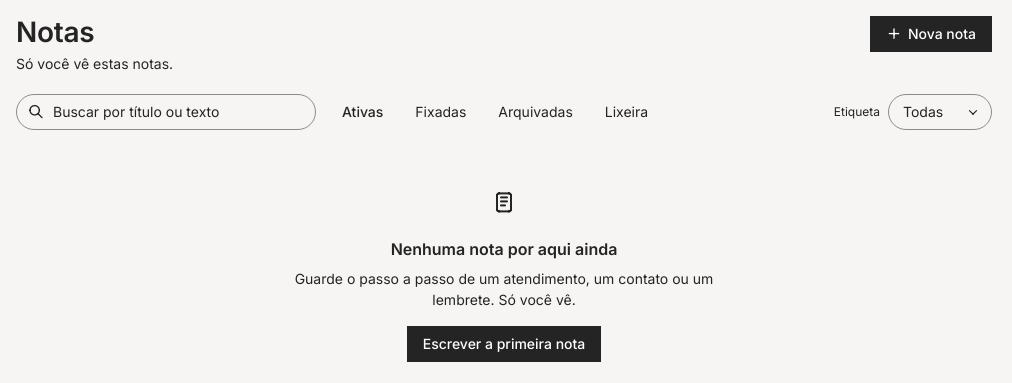
Test case: PaginaNotas › o vazio de um filtro oferece limpar o filtro
Select "Urgente" in the dropdown named "filtrar por etiqueta" at (940, 112), box [888,94,992,130]
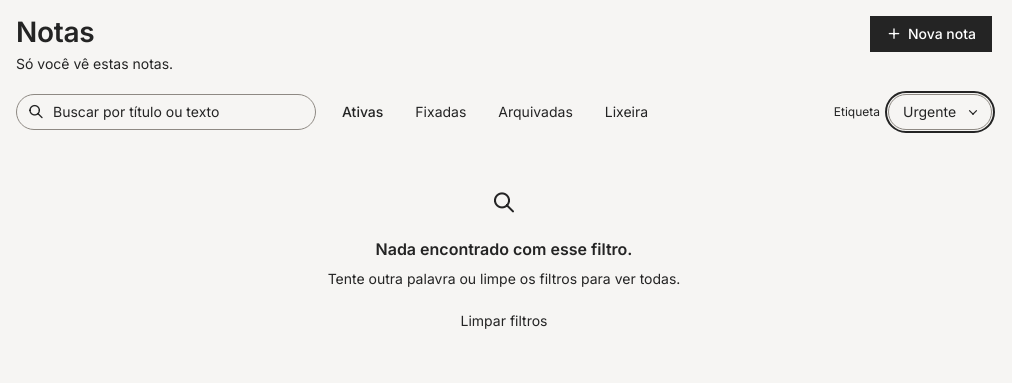
expect the text "Nada encontrado com esse filtro." is shown: met, box [376,238,632,260]
Click the button "Limpar filtros" at (504, 322), box [448,306,559,338]
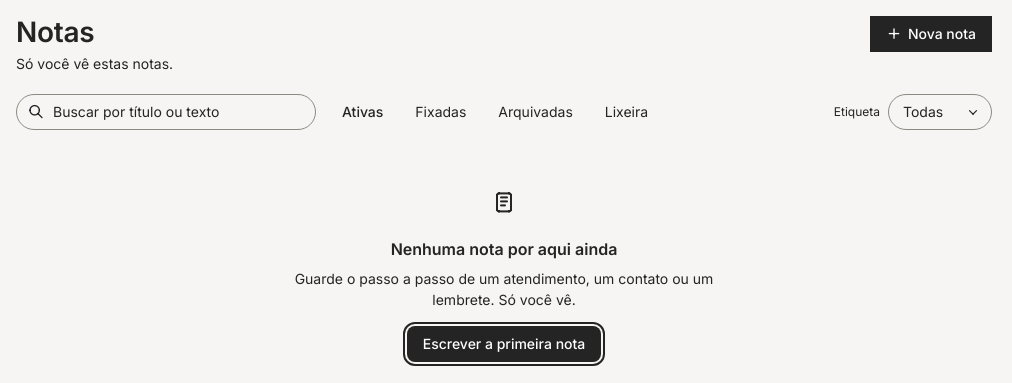
expect the text "Nenhuma nota por aqui ainda" is shown: met, box [391,238,617,260]
